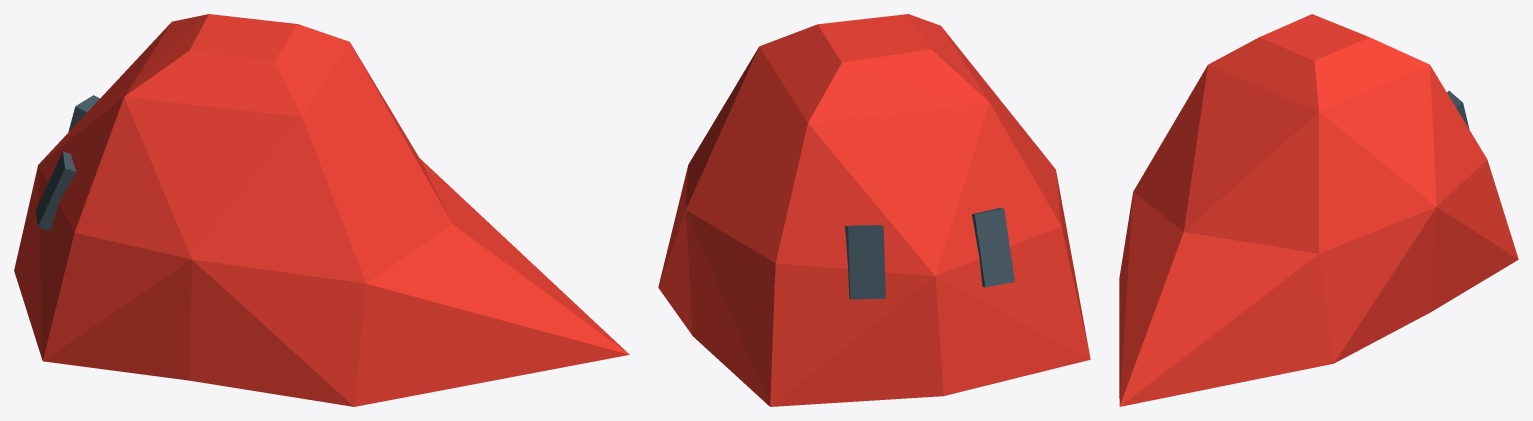
The model's file is SlimePlus.glb.
3 renders of one model, left to right at view 1: azimuth 30°, elevation 25°; view 2: azimuth 150°, elevation 25°; view 3: azimuth 270°, elevation 25°, orthographic. The views are drawn at different scales.
Visible parts, largest first — view 1: group1953088506, group628414867; view 2: group1953088506, group675558110, group628414867; view 3: group1953088506.
Part boxes in pixels (x1,y1,x2,y2): group1953088506: (14,14,629,406); group628414867: (35,151,76,230); group1953088506: (658,14,1090,406); group675558110: (845,225,885,299); group628414867: (972,207,1014,287); group1953088506: (1119,14,1518,406).
Size of the model in its own units: 0.3184 by 0.1915 by 0.27.
